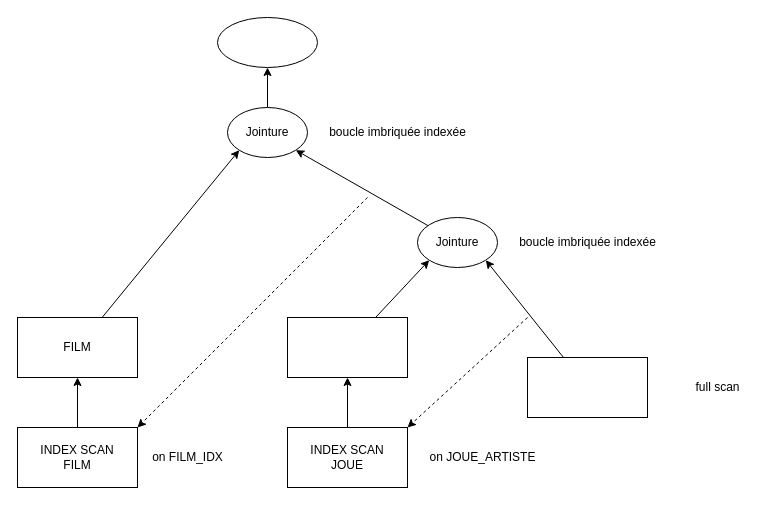
The diagram is 770 pixels wide and 505 high, and some of its shapes have lost their labels. Here are the shapes that lost their labels. From the top down, the centre of each, then its label:
point 267,42: projection statement
point 347,347: JOUE
point 587,387: ARTISTE
